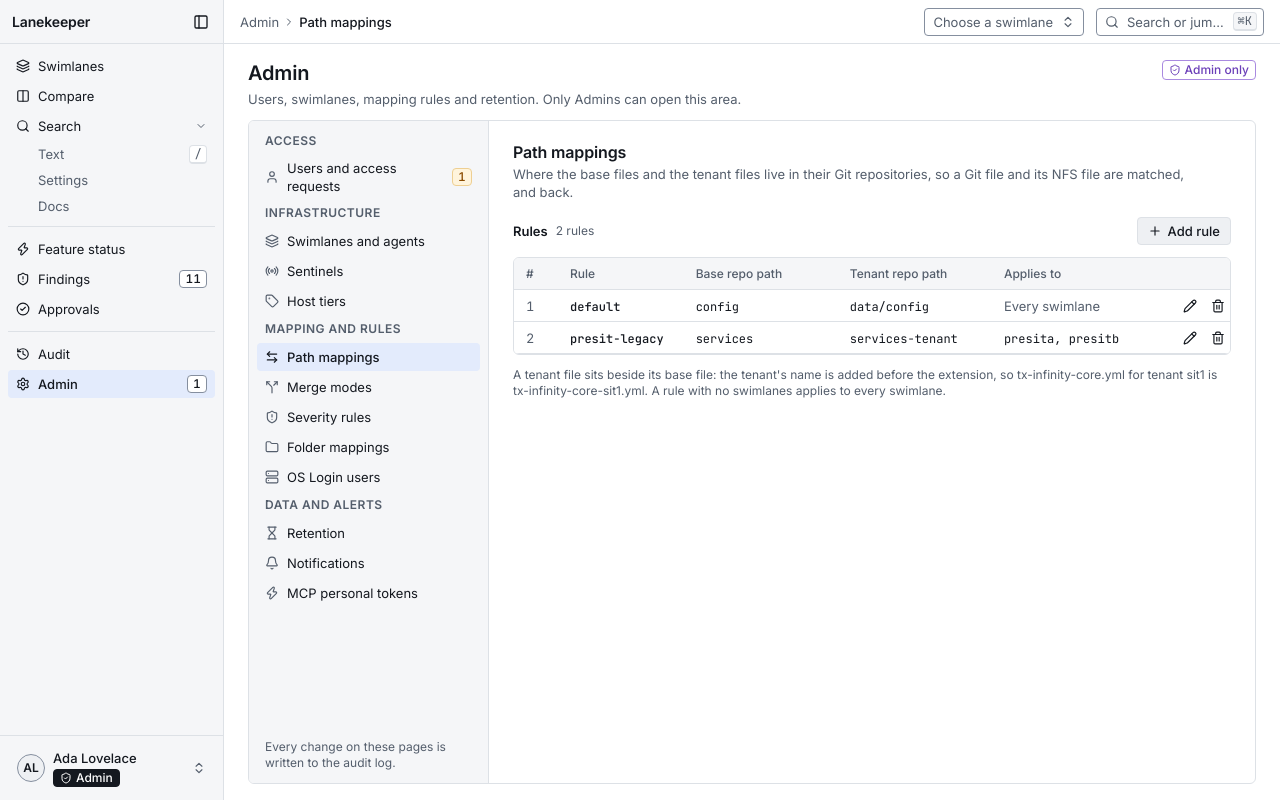
Test: moving between sections › follows a link of the navigation to another section and marks it current, in the same Admin area
Expected: the heading "Admin" is shown, left=248, top=61, right=309, bottom=85
Expected: the heading "Path mappings" is shown, left=513, top=142, right=626, bottom=162
Click the link "Merge modes" at x=318, y=387, box left=265, top=379, right=372, bottom=395
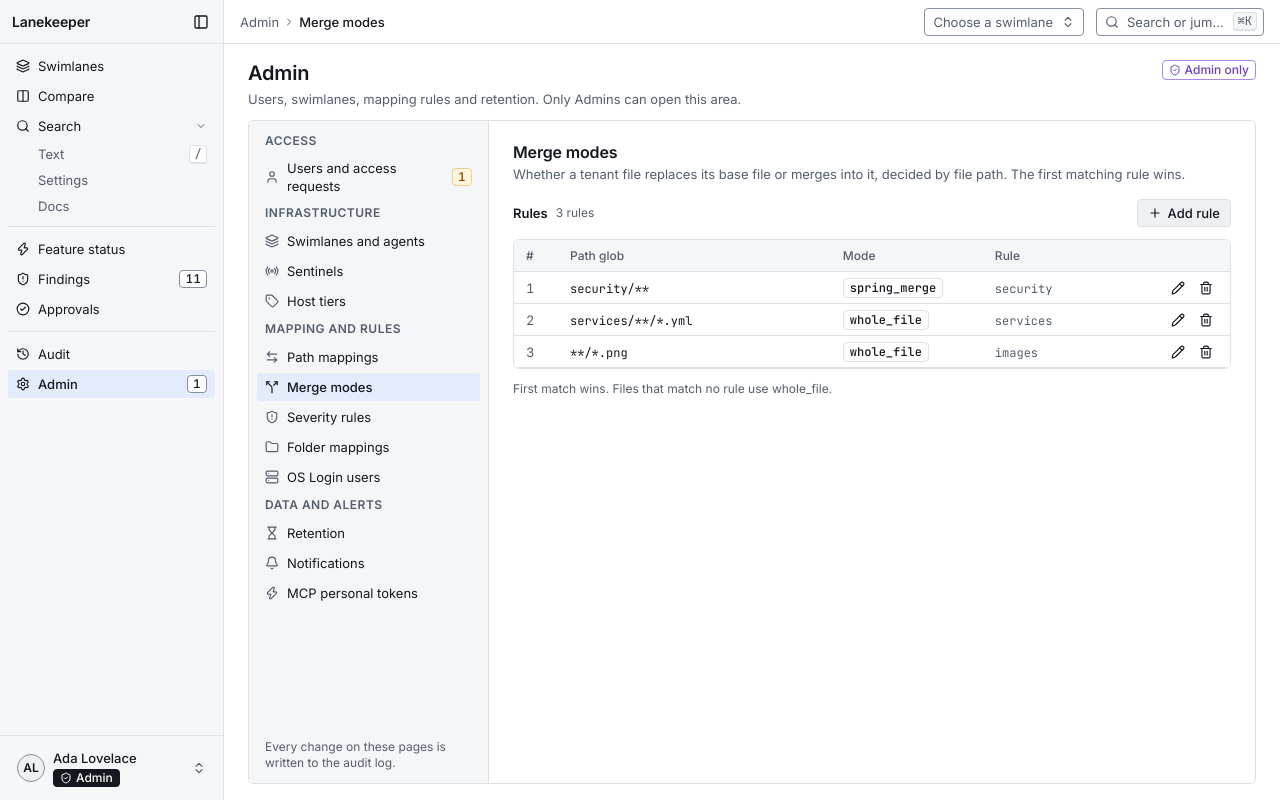
Now the heading "Merge modes" is shown, box left=513, top=142, right=617, bottom=162
Now the text "security/**" is shown, box left=570, top=280, right=649, bottom=296
